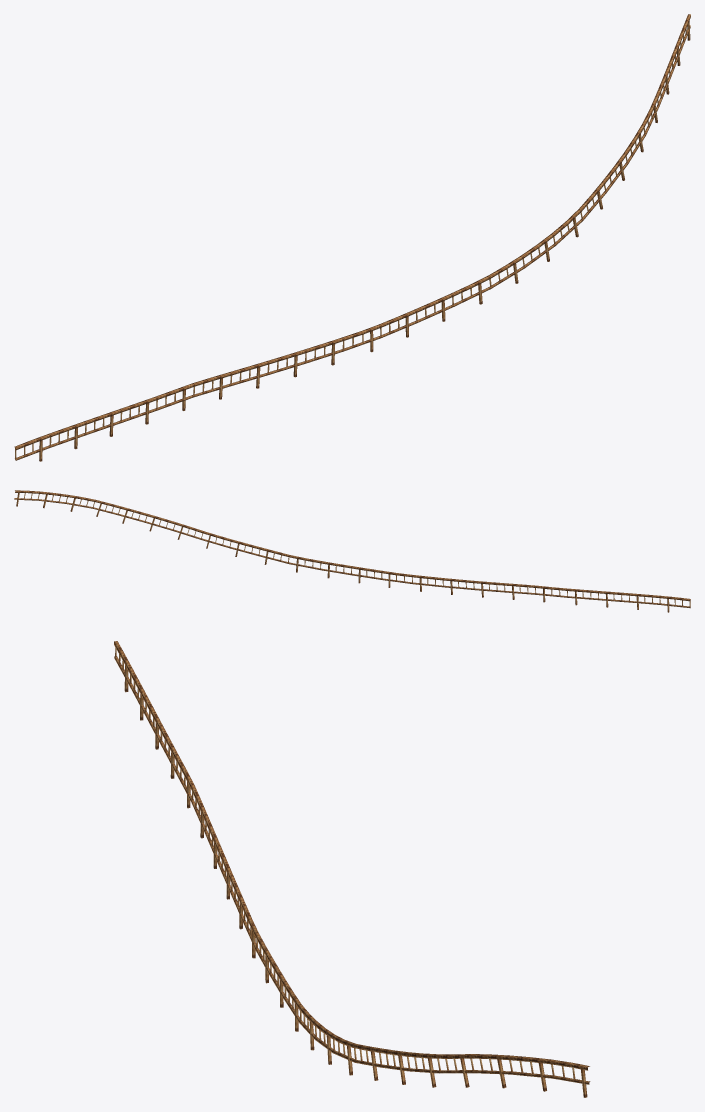
The model's file is bridge_fence_b.glb.
The picture shows the model from 3 angles, top to bottom: view 1: azimuth 30°, elevation 25°; view 2: azimuth 150°, elevation 25°; view 3: azimuth 270°, elevation 25°; orthographic projection. The views are drawn at different scales.
Visible parts, largest first — view 1: dark-wall-wood.png__; view 2: dark-wall-wood.png__; view 3: dark-wall-wood.png__.
Part boxes in pixels (x1,y1,x2,y2): dark-wall-wood.png__: [14, 14, 690, 461]; dark-wall-wood.png__: [14, 490, 690, 612]; dark-wall-wood.png__: [114, 641, 590, 1097].
Size of the model in its own units: 80.13 by 11.97 by 29.64.
Materials: 1 (1 with a texture image).
